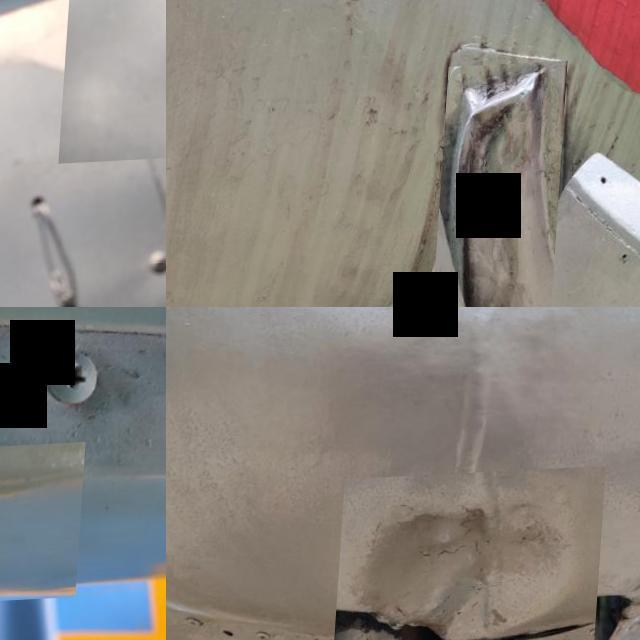Dent: (338, 471, 608, 640), (436, 65, 569, 307), (64, 0, 166, 166), (0, 448, 90, 624), (620, 545, 640, 624)
